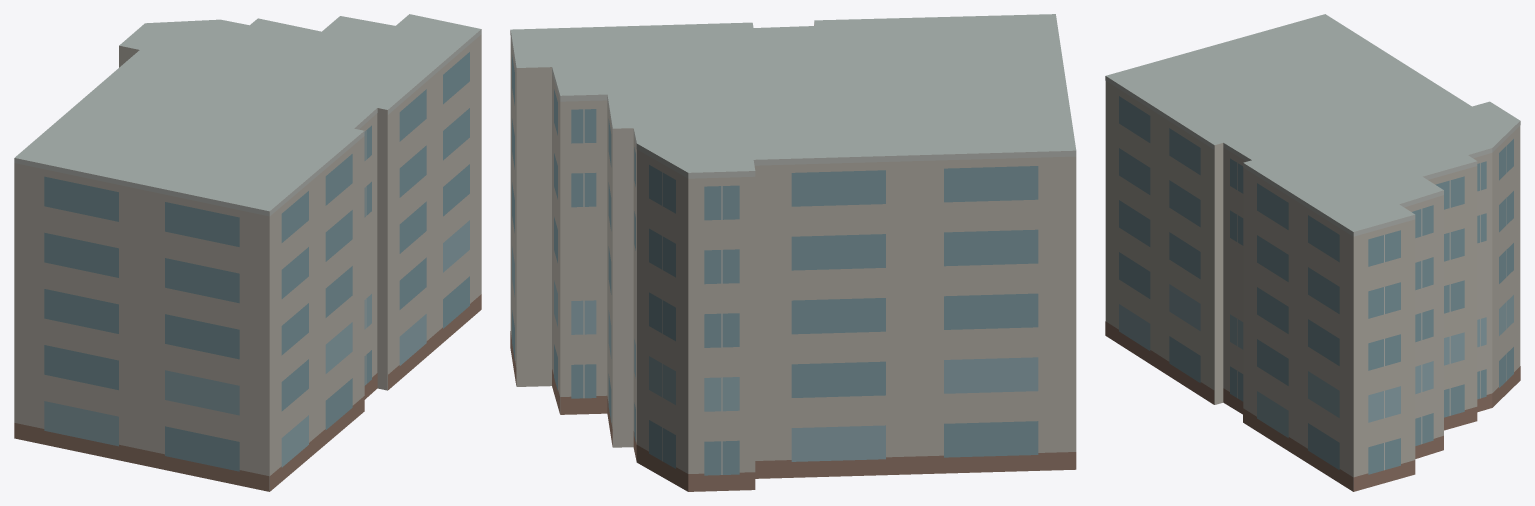
Rendered from survey-upis-33003129.glb.
The picture shows the model from 3 angles, left to right: view 1: azimuth 30°, elevation 25°; view 2: azimuth 150°, elevation 25°; view 3: azimuth 270°, elevation 25°; orthographic projection. The views are drawn at different scales.
Visible parts, largest first — view 1: survey-upis-33003129.tmp; view 2: survey-upis-33003129.tmp; view 3: survey-upis-33003129.tmp.
Part boxes in pixels (box(x1,y1,x2,y2)): survey-upis-33003129.tmp: box(14, 14, 481, 491); survey-upis-33003129.tmp: box(510, 14, 1076, 491); survey-upis-33003129.tmp: box(1105, 14, 1520, 491).
Size of the model in its own units: 24.12 by 13.4 by 19.4.
